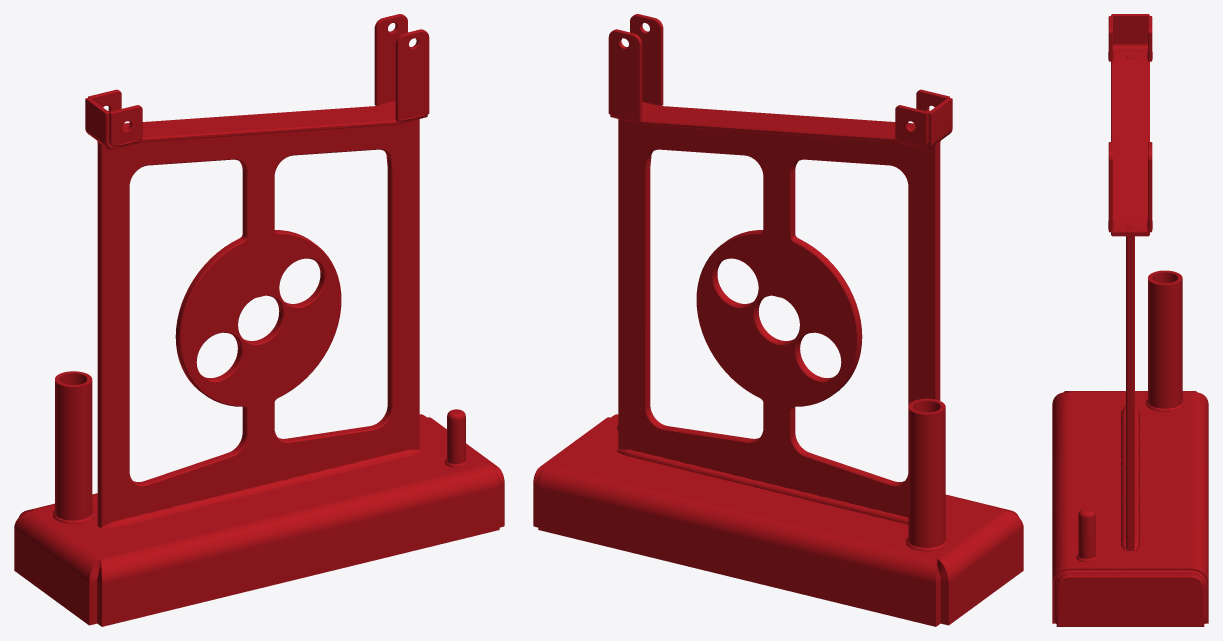
The model's file is SM_Support_Pipewrench.glb.
3 views of the same model, side by side, from view 1: azimuth 30°, elevation 25°; view 2: azimuth 150°, elevation 25°; view 3: azimuth 270°, elevation 25° (orthographic). The views are drawn at different scales.
Visible parts, largest first — view 1: SM_Support_Pipewrench; view 2: SM_Support_Pipewrench; view 3: SM_Support_Pipewrench.
Boxes of the visible parts, x1=… form: SM_Support_Pipewrench: x1=14, y1=14, x2=504, y2=626; SM_Support_Pipewrench: x1=533, y1=14, x2=1023, y2=626; SM_Support_Pipewrench: x1=1052, y1=14, x2=1208, y2=626.
Bounding box in the file's own units: 0.6477 × 0.7303 × 0.2286.
